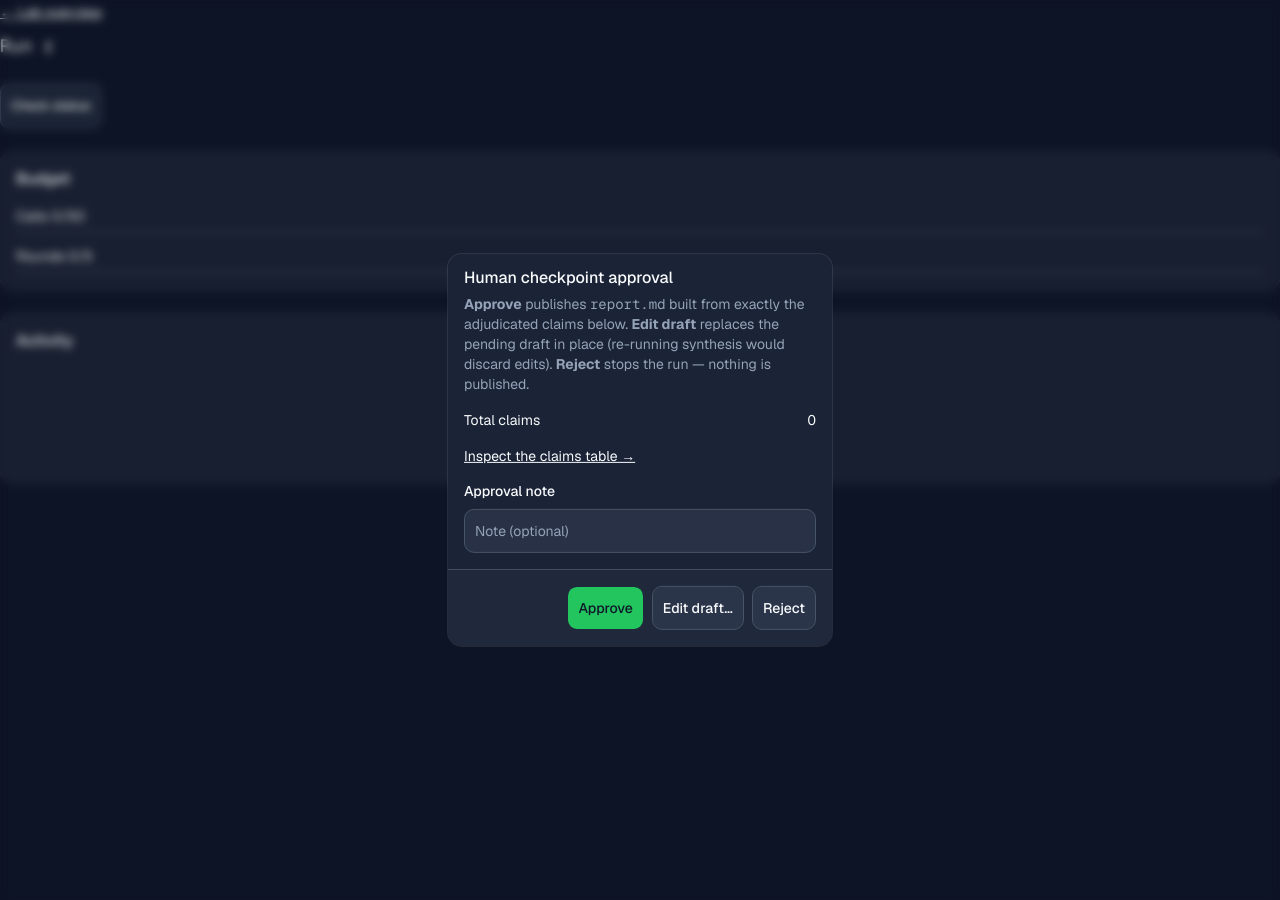
Test: RunView › ignores stale checkpoint replay after resolve
Expected: the dialog "Human checkpoint approval" is shown, left=448, top=254, right=832, bottom=646
Click the button "Approve": {"x": 606, "y": 608} left=567, top=586, right=644, bottom=630
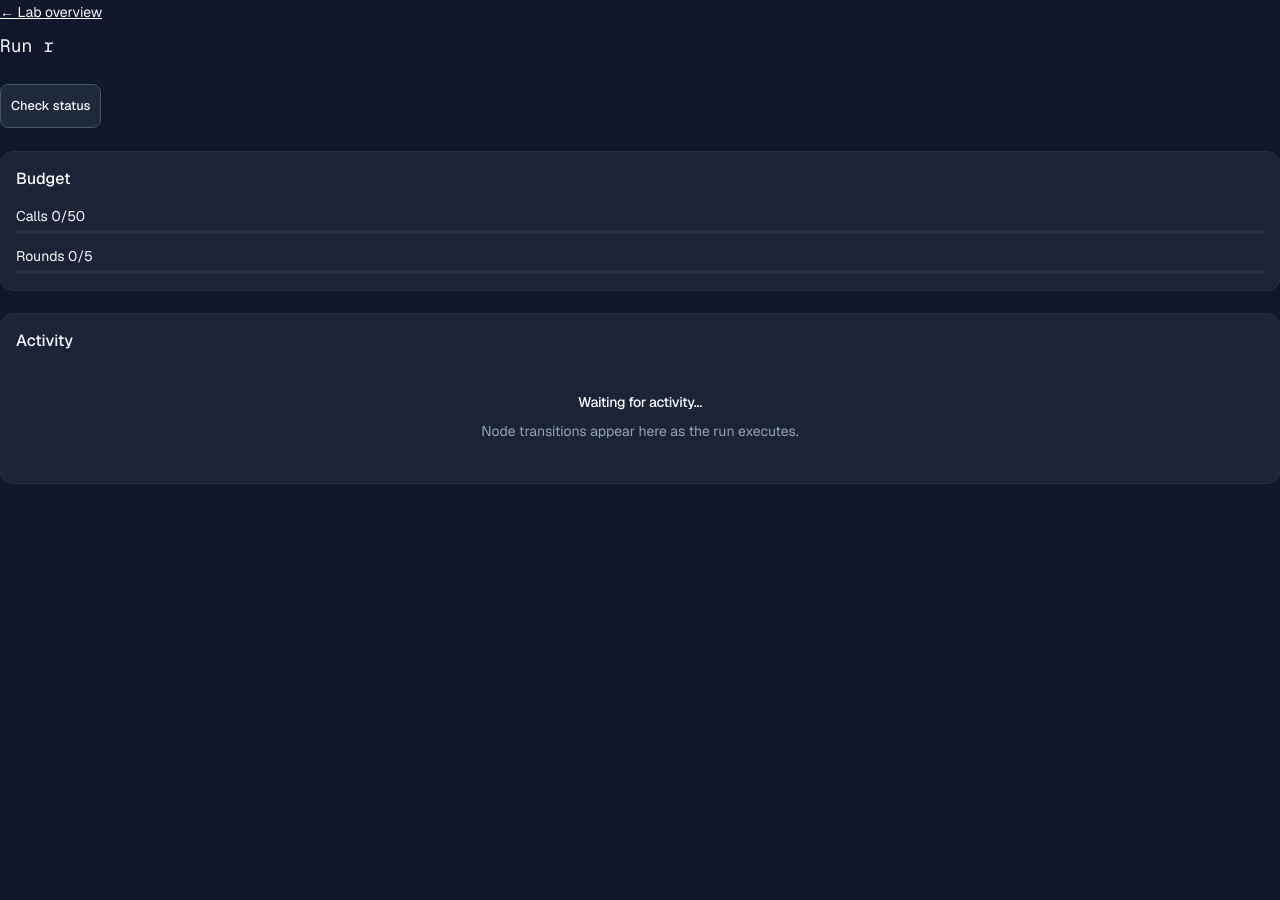
Now the heading "Human checkpoint approval" is gone
